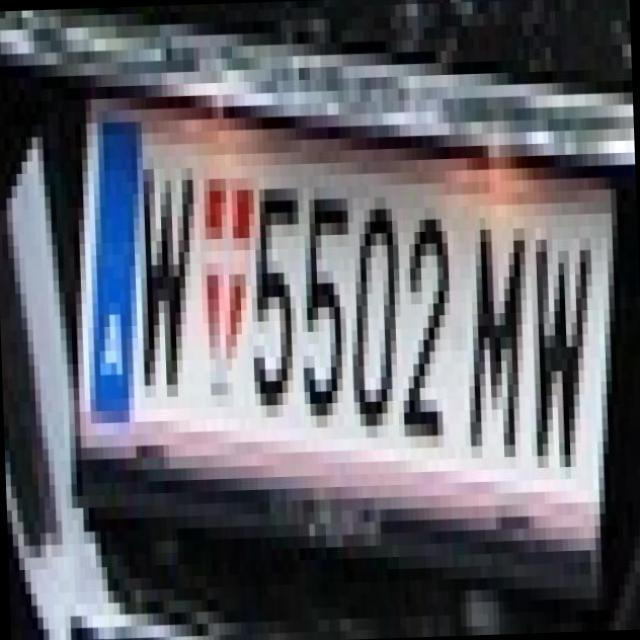License Plate: (64, 67, 608, 569)
